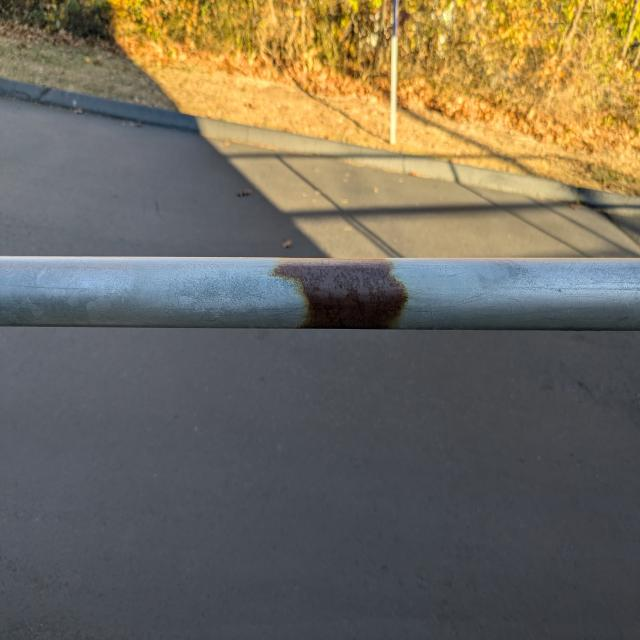Uniform Corrosion: (275, 261, 408, 330)
